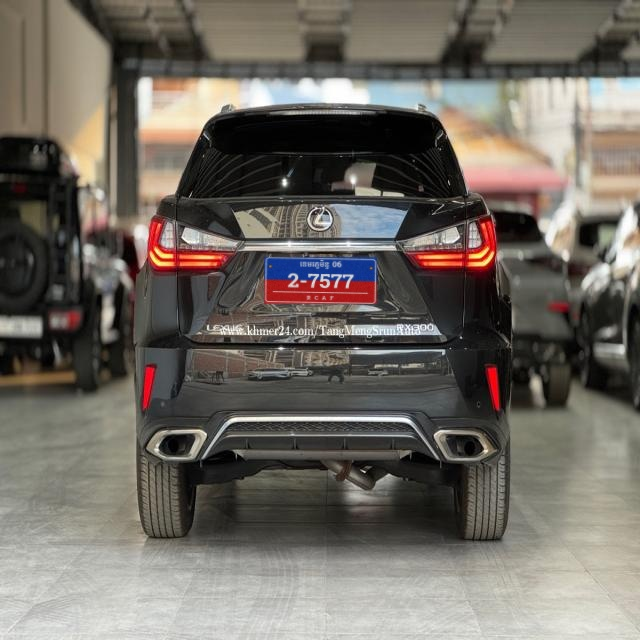Plate Number: (264, 258, 377, 304)
